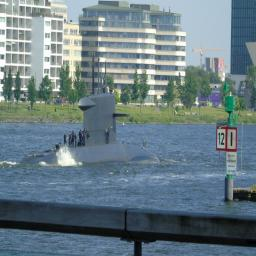submarine: (10, 50, 160, 169)
